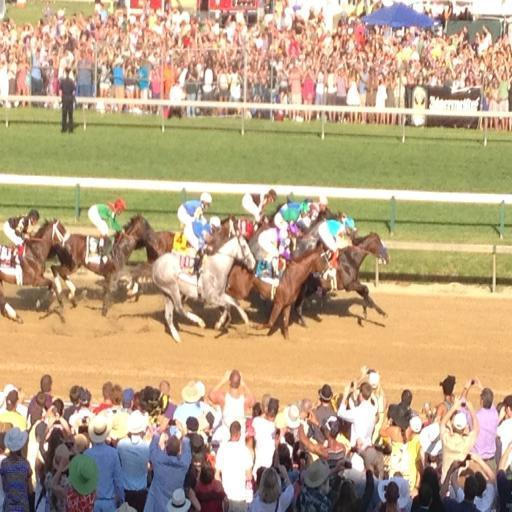horse: (0, 205, 389, 344)
